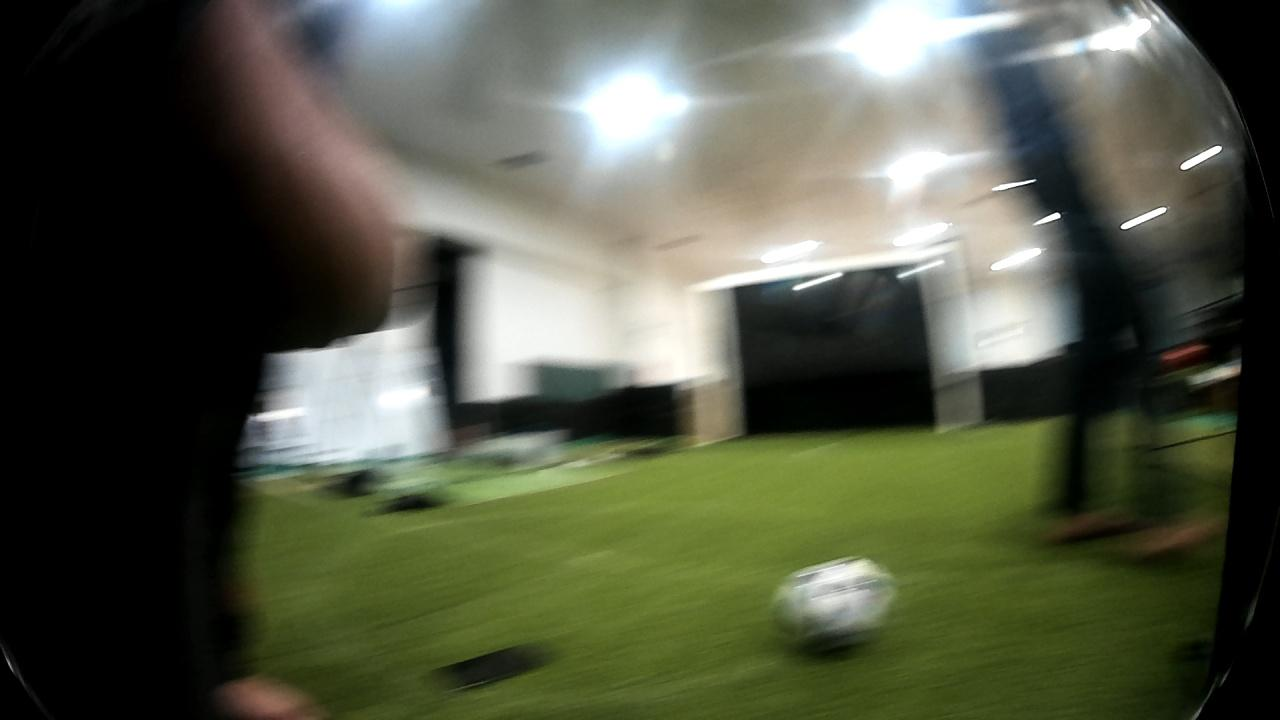ball: (764, 545, 904, 656)
